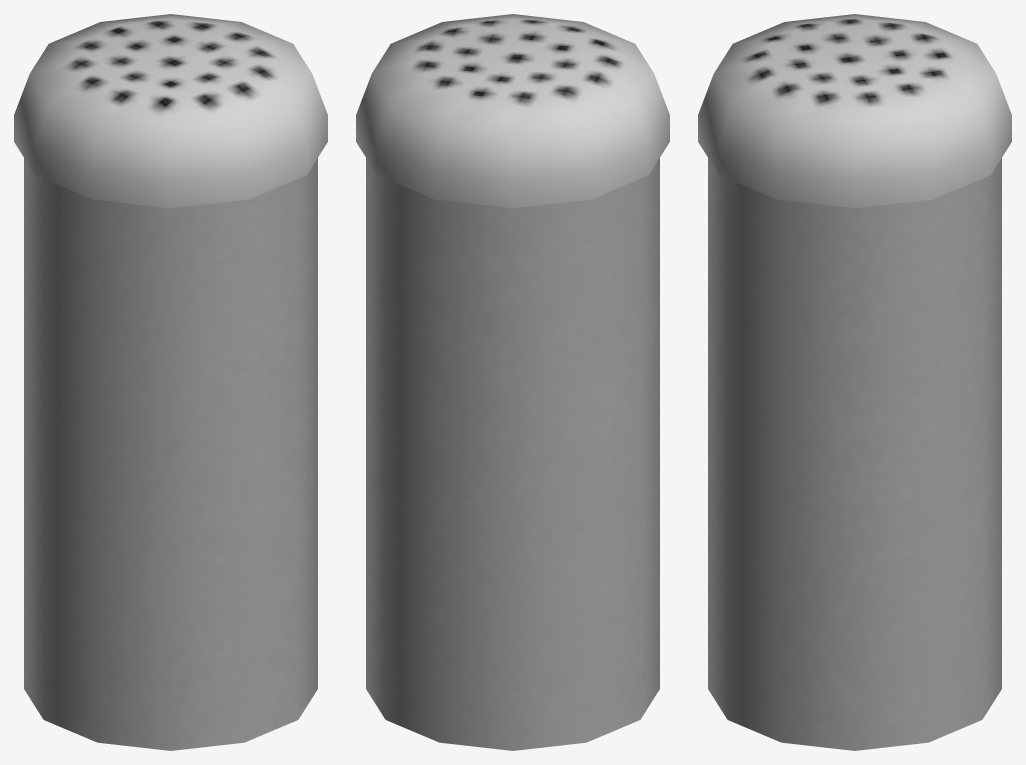
The model's file is SugarBowl.fbx.
3 views of the same model, side by side, from view 1: azimuth 30°, elevation 25°; view 2: azimuth 150°, elevation 25°; view 3: azimuth 270°, elevation 25° (orthographic).
Parts seen in each view (by area): view 1: Sugar bowl; view 2: Sugar bowl; view 3: Sugar bowl.
Boxes of the visible parts, x1,y1,x2,y2 form: Sugar bowl: (14,14,327,750); Sugar bowl: (356,14,669,750); Sugar bowl: (698,14,1011,750).
Size of the model in its own units: 5.2 by 11.5 by 5.2.
